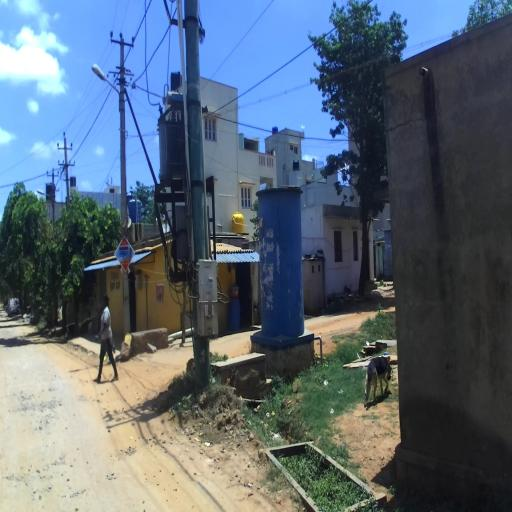street_light_0: (91, 63, 125, 112), (36, 188, 54, 208)
